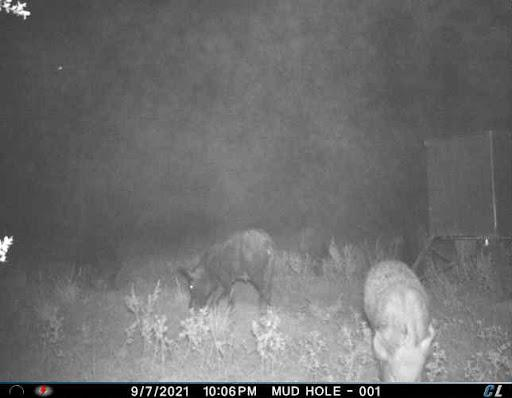Hog: (354, 259, 444, 383), (177, 225, 295, 318)
